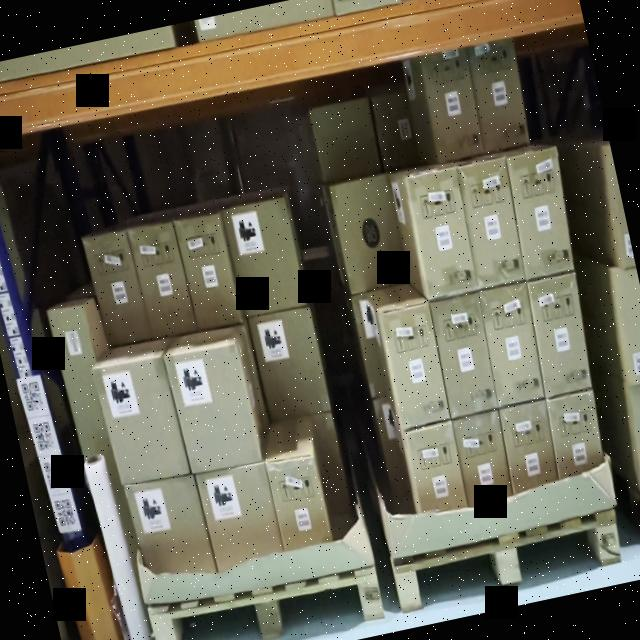box: (167, 341, 263, 474), (93, 355, 186, 485), (403, 165, 481, 294), (224, 192, 306, 312), (378, 300, 452, 430), (248, 307, 332, 421), (124, 216, 197, 343), (458, 160, 528, 287), (504, 152, 574, 272), (464, 38, 534, 158), (526, 273, 595, 392), (429, 296, 496, 418), (480, 281, 544, 405), (80, 234, 146, 354), (418, 46, 485, 164), (178, 210, 240, 327)
